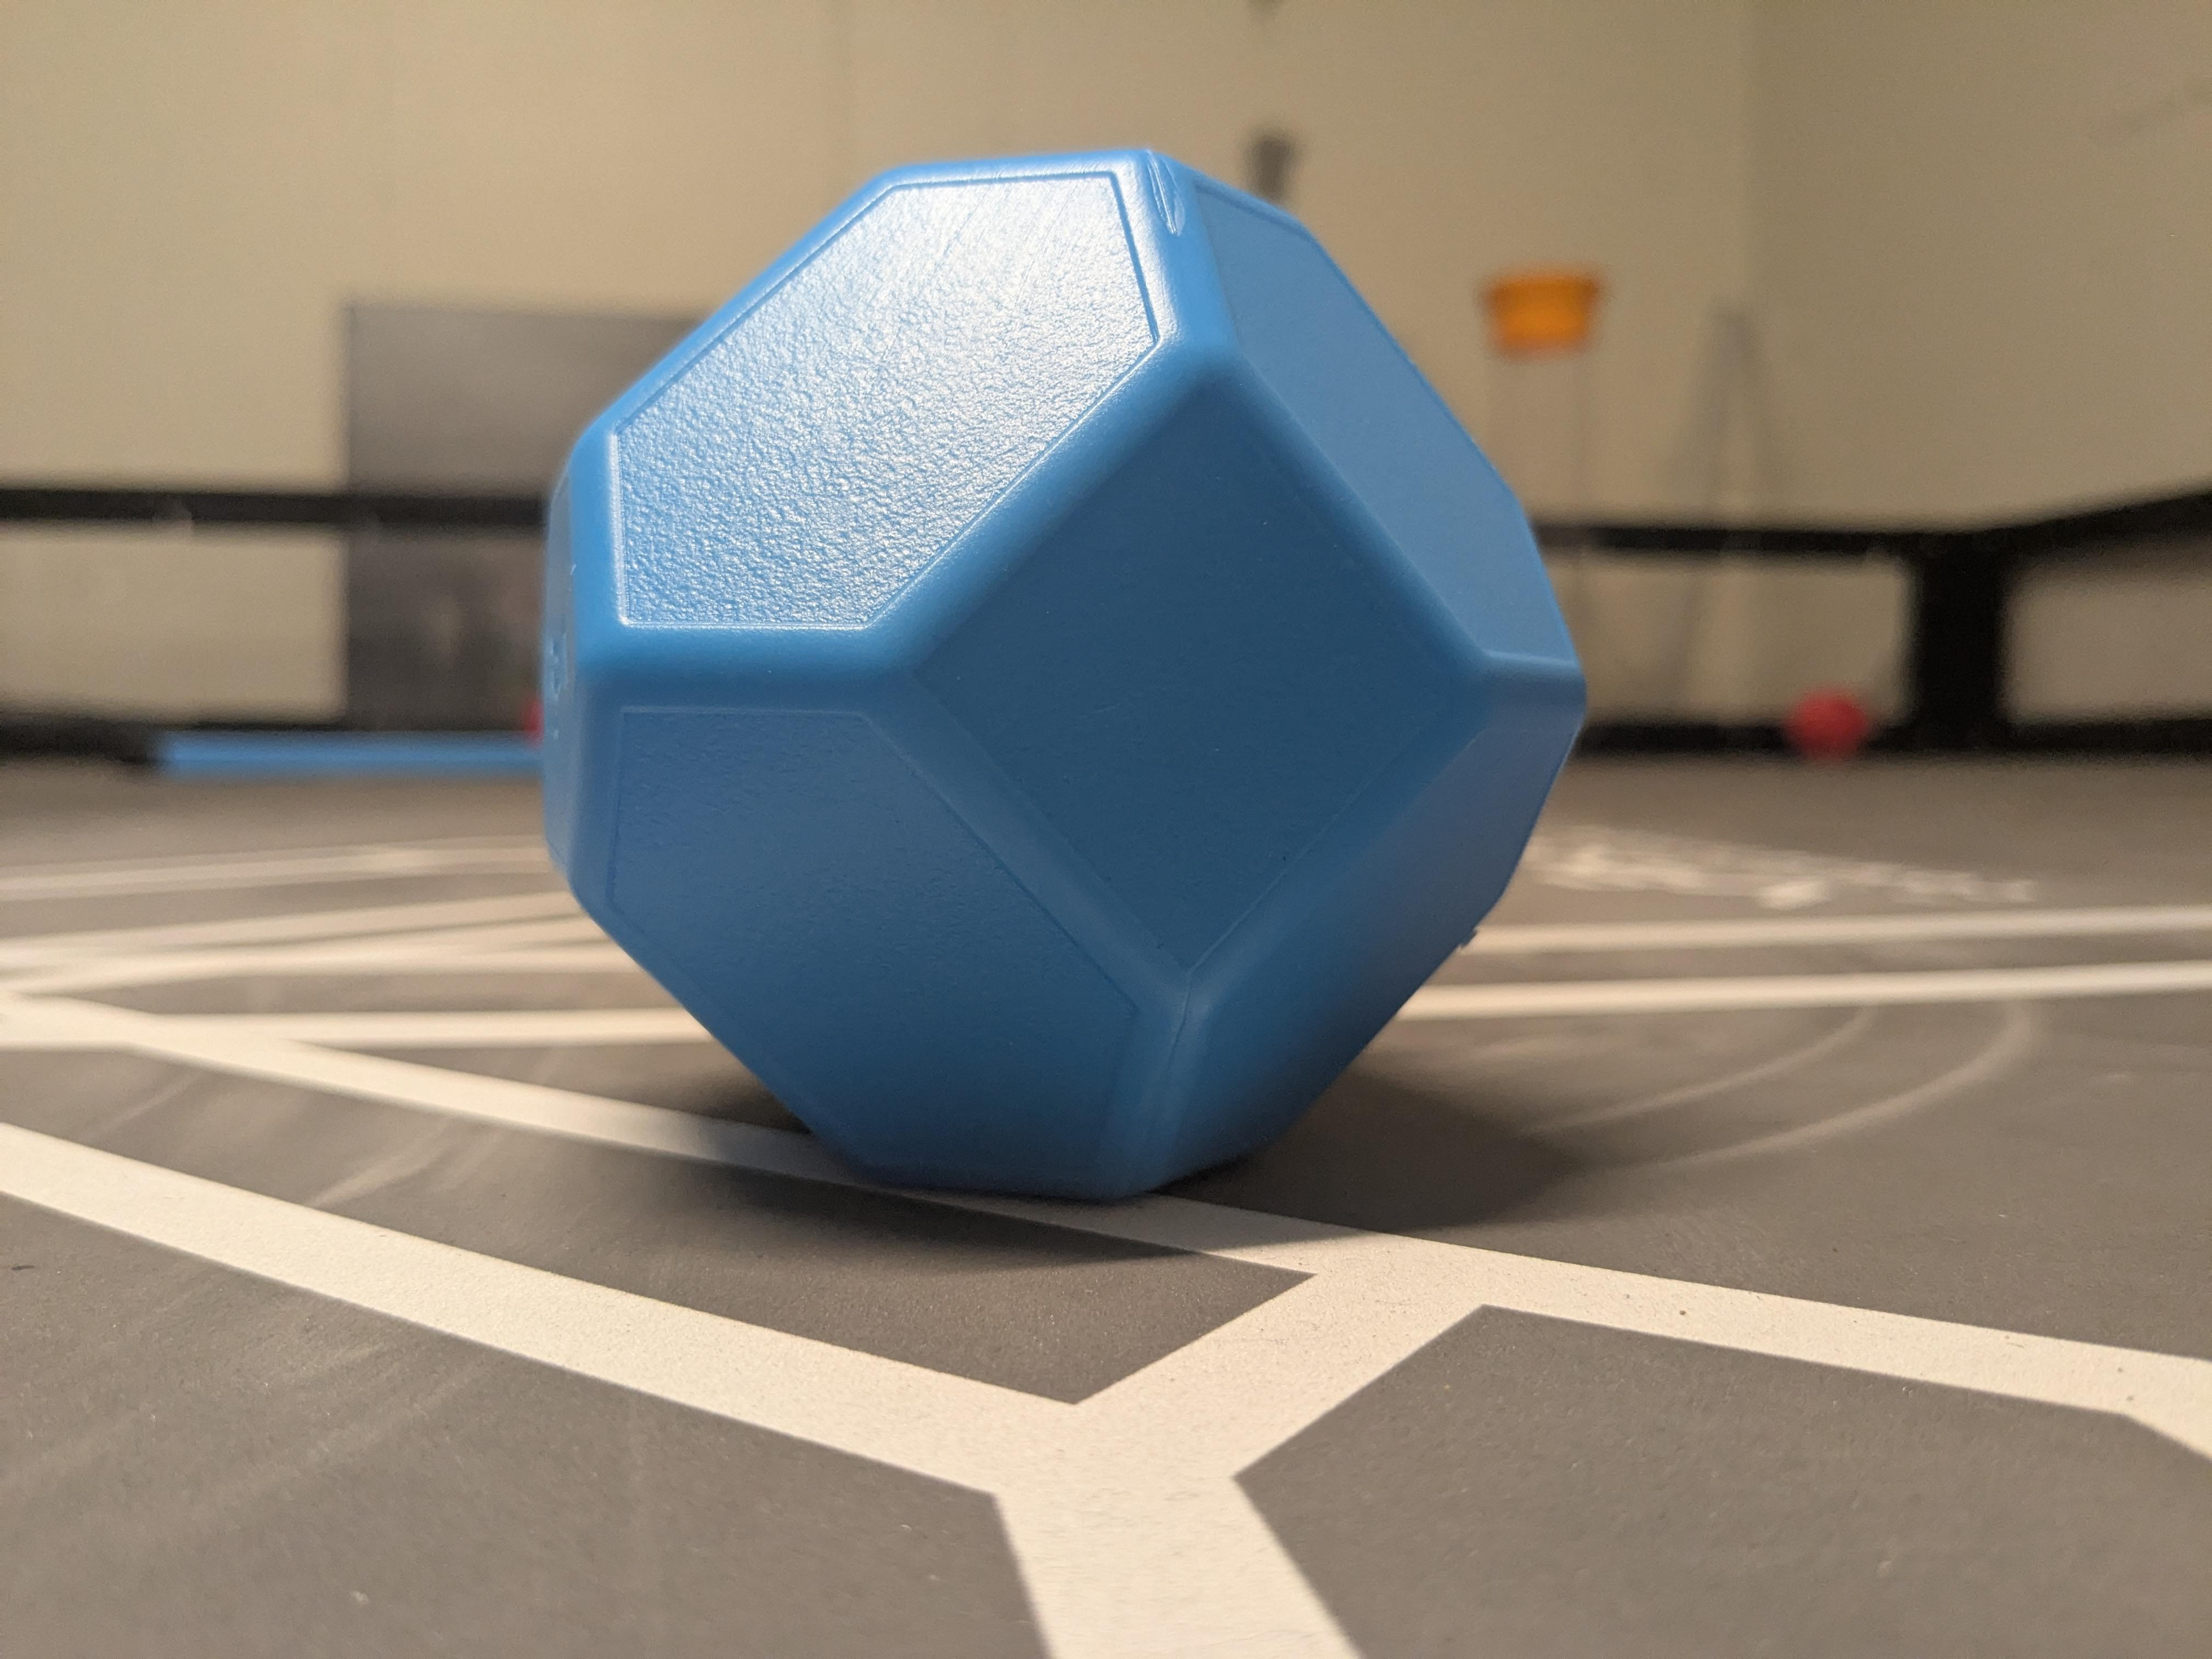Vex-Pieces-BLUE: (542, 150, 1583, 1199)
